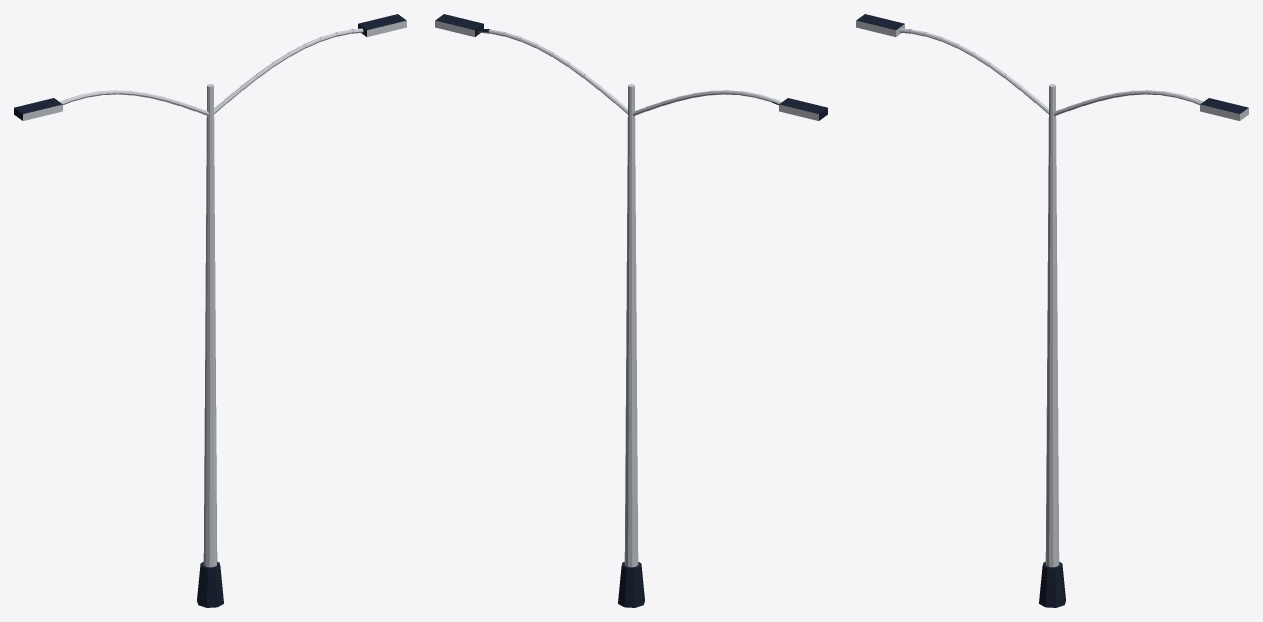
Rendered from highway_cobra_light_double.glb.
3 views of the same model, side by side, from view 1: azimuth 30°, elevation 25°; view 2: azimuth 150°, elevation 25°; view 3: azimuth 330°, elevation 25° (orthographic).
Visible parts, largest first — view 1: HighwayLight; view 2: HighwayLight; view 3: HighwayLight.
Boxes of the visible parts, x1,y1,x2,y2 form: HighwayLight: (14,14,406,607); HighwayLight: (435,14,827,607); HighwayLight: (856,14,1248,607).
Size of the model in its own units: 6.92 by 9.29 by 0.44.
